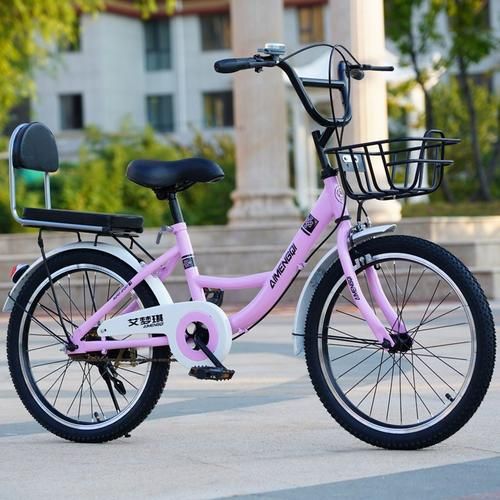单车: (7, 24, 499, 462)
